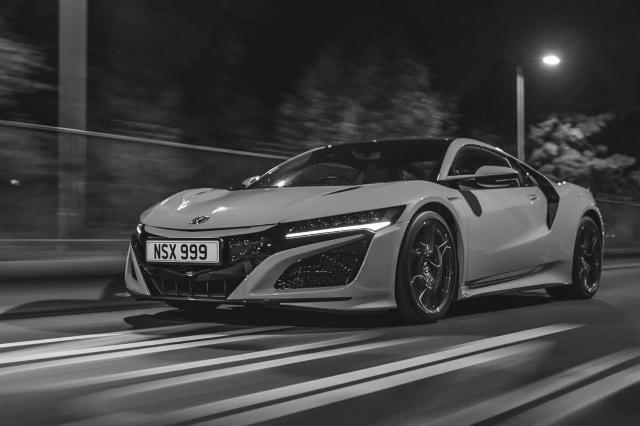sport: (101, 100, 615, 344)
